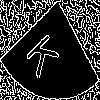K: (24, 25, 66, 81)
